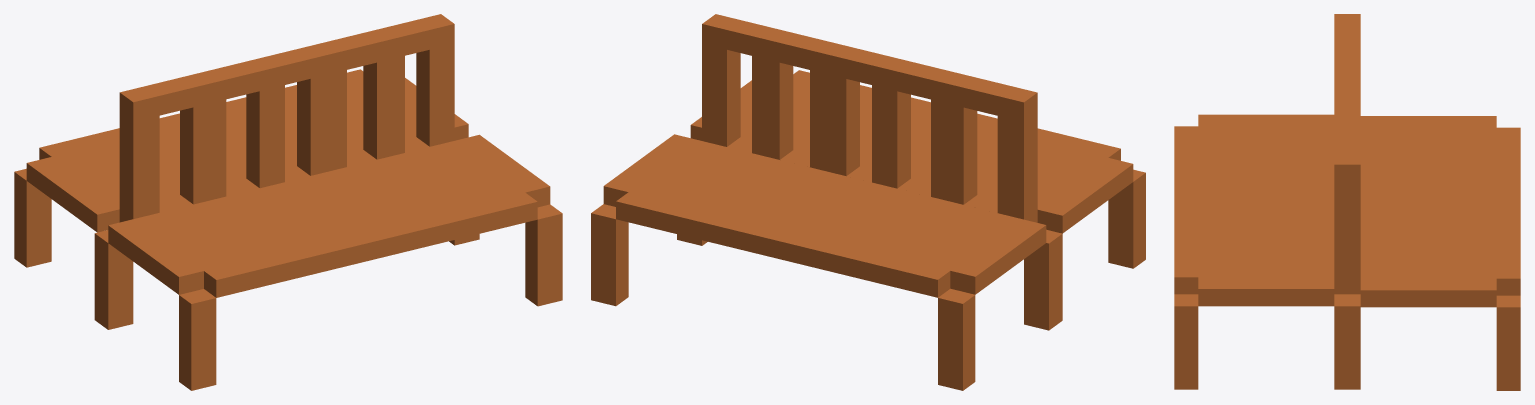
Rendered from bench_v2.fbx.
3 renders of one model, left to right at view 1: azimuth 30°, elevation 25°; view 2: azimuth 150°, elevation 25°; view 3: azimuth 270°, elevation 25°, orthographic. The views are drawn at different scales.
Visible parts, largest first — view 1: Cube; view 2: Cube; view 3: Cube.
Part boxes in pixels (box(x1,y1,x2,y2)): Cube: box(14, 14, 562, 390); Cube: box(591, 14, 1145, 390); Cube: box(1174, 14, 1520, 390).
Bounding box in the file's own units: 244 × 138 × 204.
